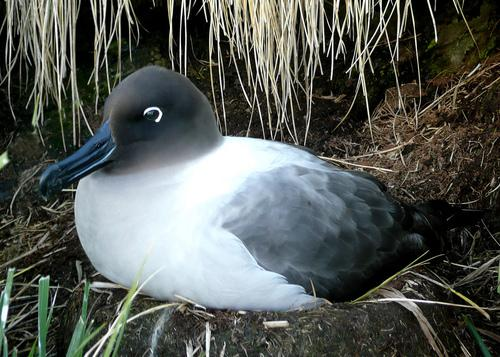003.Sooty_Albatross: (37, 65, 463, 313)
